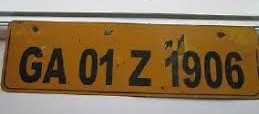numberplate: (3, 19, 259, 101)
